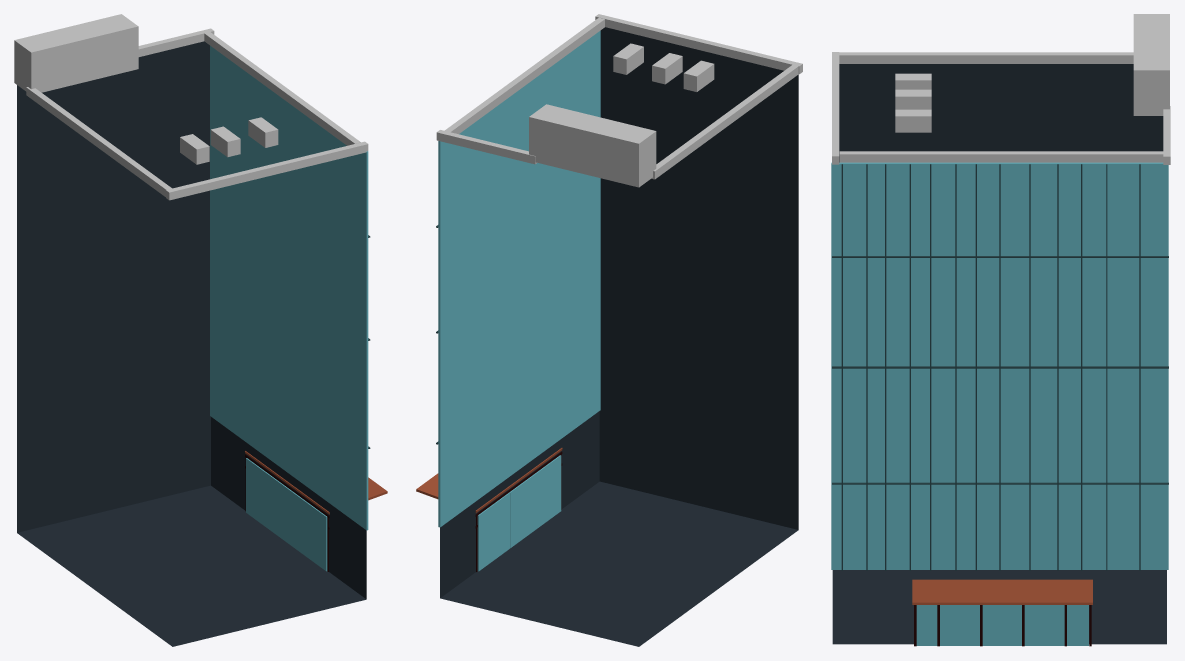
Rendered from Building-1Tall.obj.
3 views of the same model, side by side, from view 1: azimuth 30°, elevation 25°; view 2: azimuth 150°, elevation 25°; view 3: azimuth 270°, elevation 25° (orthographic). The views are drawn at different scales.
Visible parts, largest first — view 1: Cube.020; view 2: Cube.020; view 3: Cube.020.
Part boxes in pixels (x1,y1,x2,y2): Cube.020: (14,14,387,646); Cube.020: (416,14,802,646); Cube.020: (831,14,1170,646).
Size of the model in its own units: 5.66 by 10.41 by 6.06.
